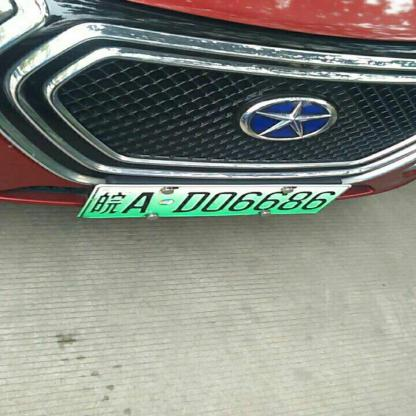lp: (83, 187, 349, 218)
